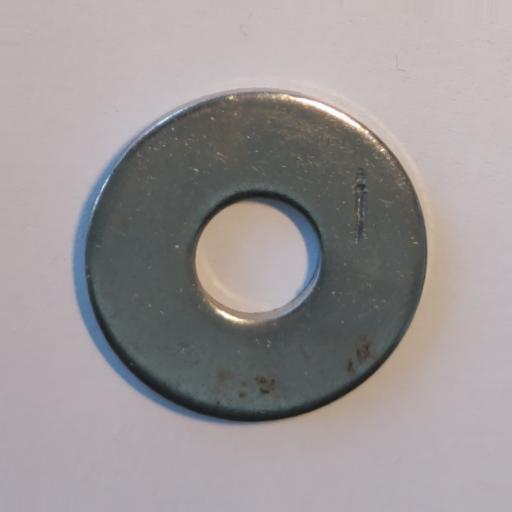scratch: (352, 168, 369, 239)
